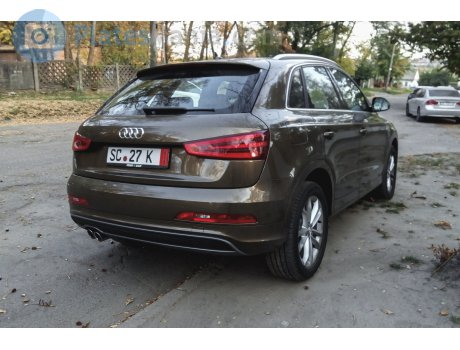License Plates: (109, 148, 159, 161)
